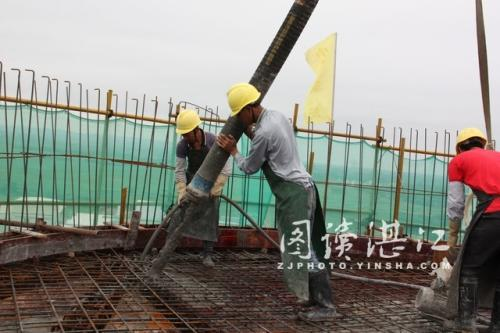boots: (285, 265, 337, 319), (447, 271, 481, 333), (199, 238, 215, 267)
gloves: (447, 217, 458, 263), (209, 173, 228, 199), (175, 182, 187, 206)
hard-hat: (225, 82, 261, 116), (175, 108, 202, 134), (455, 127, 487, 146)
person: (215, 82, 341, 322), (444, 127, 500, 333), (174, 109, 236, 267)
